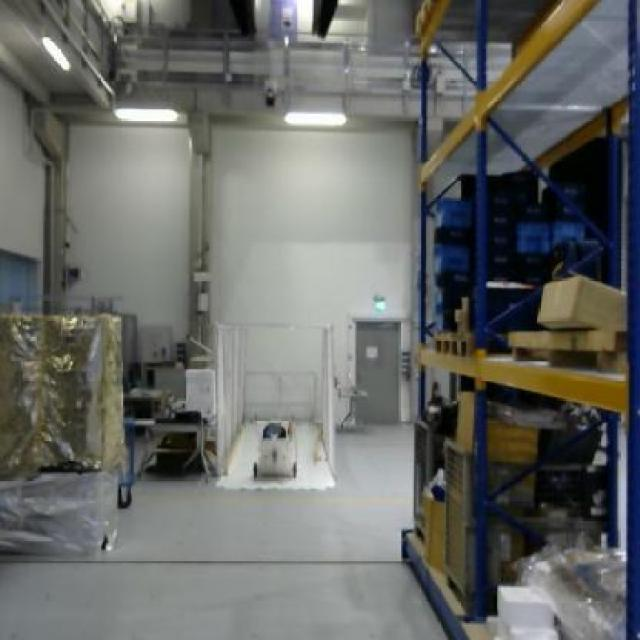box: (536, 274, 626, 328)
